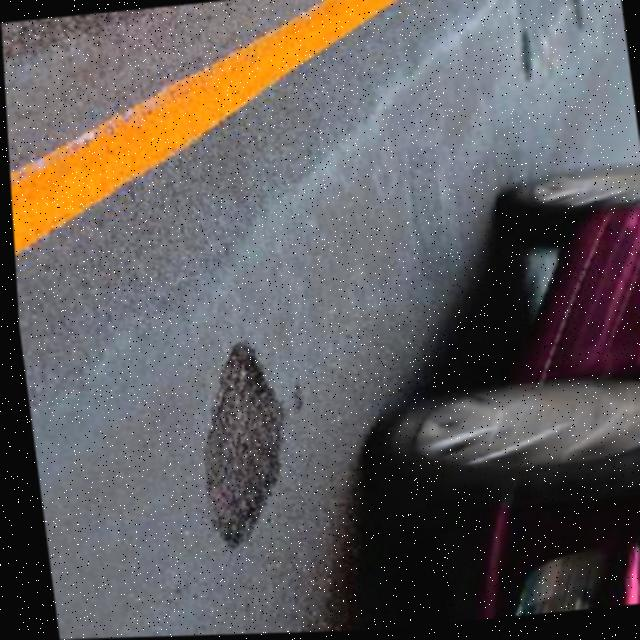Pothole: (183, 335, 299, 551), (515, 27, 542, 83), (284, 380, 305, 410)
